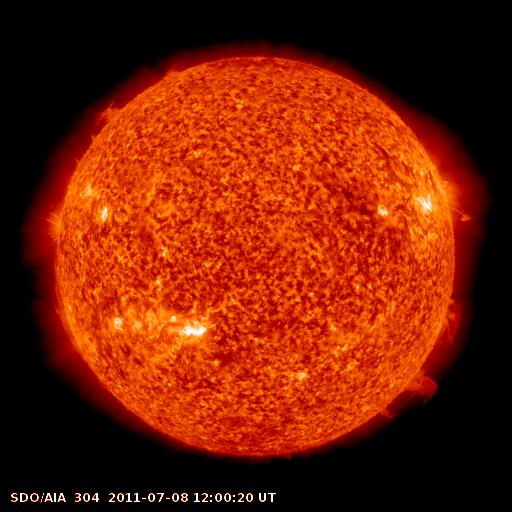prominence: (48, 241, 87, 353), (428, 290, 472, 354), (80, 98, 136, 145), (398, 365, 448, 407), (442, 190, 481, 231), (370, 400, 403, 424)
